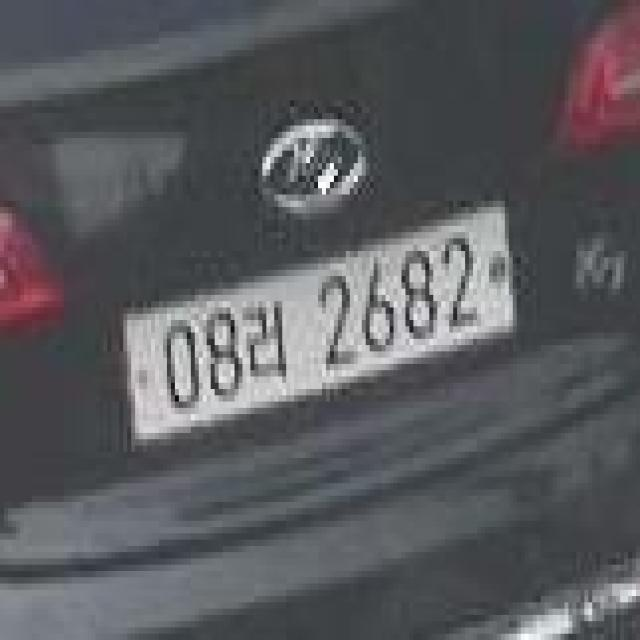illegal_plate: (121, 202, 521, 459)
